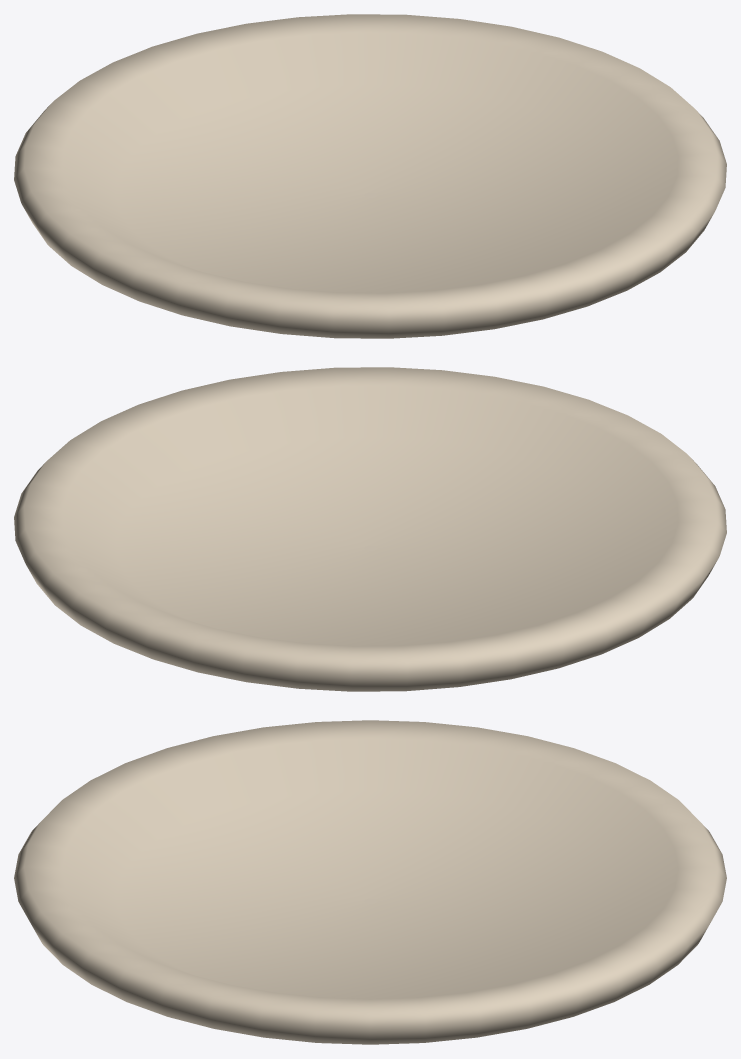
File: plate.glb
The picture shows the model from 3 angles, top to bottom: view 1: azimuth 30°, elevation 25°; view 2: azimuth 150°, elevation 25°; view 3: azimuth 270°, elevation 25°; orthographic projection.
Parts seen in each view (by area): view 1: Turned ceramic plate; view 2: Turned ceramic plate; view 3: Turned ceramic plate.
Boxes of the visible parts, x1,y1,x2,y2 form: Turned ceramic plate: (14,14,726,338); Turned ceramic plate: (14,367,726,691); Turned ceramic plate: (14,720,726,1044).
Bounding box in the file's own units: 0.558 × 0.062 × 0.558.
